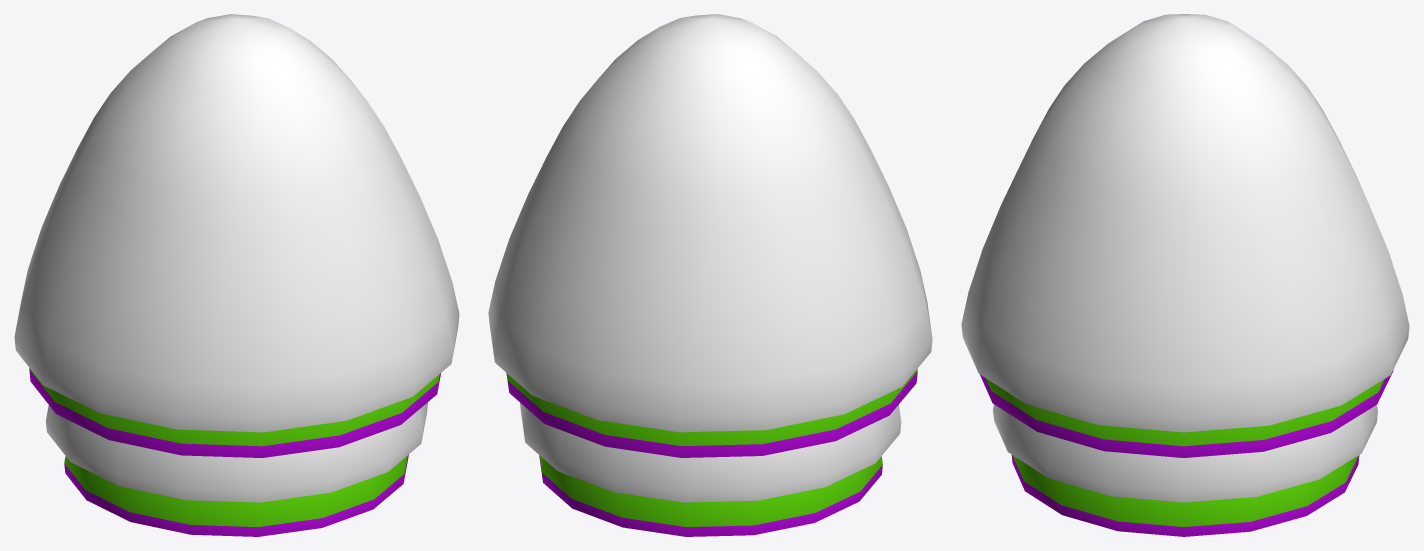
The model's file is head_lv4.fbx.
The picture shows the model from 3 angles, left to right: view 1: azimuth 30°, elevation 25°; view 2: azimuth 150°, elevation 25°; view 3: azimuth 270°, elevation 25°; orthographic projection.
Visible parts, largest first — view 1: head_lv4-; view 2: head_lv4-; view 3: head_lv4-.
Boxes of the visible parts, <box> form: head_lv4-: <box>14,14,459,536</box>; head_lv4-: <box>488,14,932,536</box>; head_lv4-: <box>961,14,1409,536</box>.
Bounding box in the file's own units: 140 × 154 × 140.
